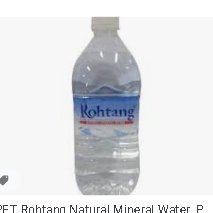Bottle: (72, 17, 140, 194)
